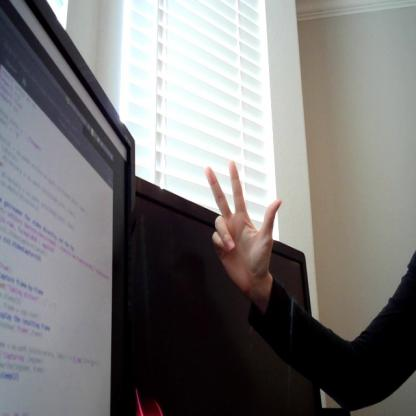three: (204, 154, 285, 290)
